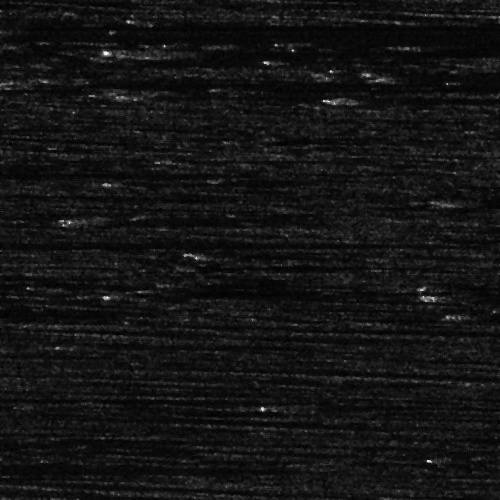object: (246, 400, 361, 411), (68, 285, 161, 298), (95, 47, 220, 56), (0, 78, 73, 89), (66, 212, 129, 223), (89, 92, 172, 99), (321, 96, 374, 103), (104, 177, 157, 184)
shadow: (0, 20, 333, 37), (1, 78, 344, 89), (115, 285, 385, 298), (0, 461, 265, 474), (0, 238, 369, 247), (98, 212, 366, 223), (158, 47, 423, 56), (0, 169, 253, 178), (304, 400, 491, 411), (0, 466, 127, 477), (348, 96, 441, 103), (131, 92, 220, 99), (131, 177, 220, 184), (0, 161, 69, 170), (0, 307, 124, 312)
